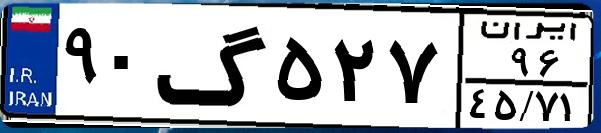0: (110, 28, 156, 98)
1: (560, 70, 590, 125)
2: (330, 28, 385, 110)
4: (470, 70, 495, 125)
5: (270, 28, 330, 110), (495, 70, 520, 125)
6: (537, 27, 568, 80)
7: (385, 28, 445, 110), (535, 70, 560, 125)
9: (57, 26, 110, 100), (508, 27, 537, 80)
گ: (156, 12, 270, 120)
